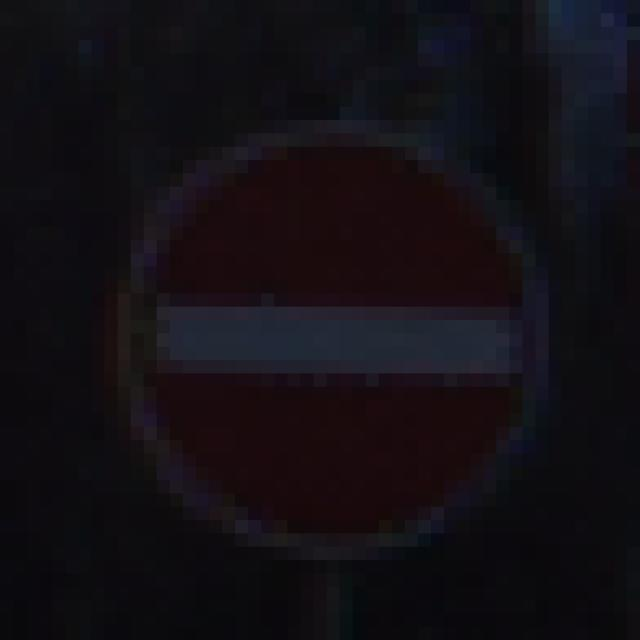No Entry: (79, 68, 576, 574)
